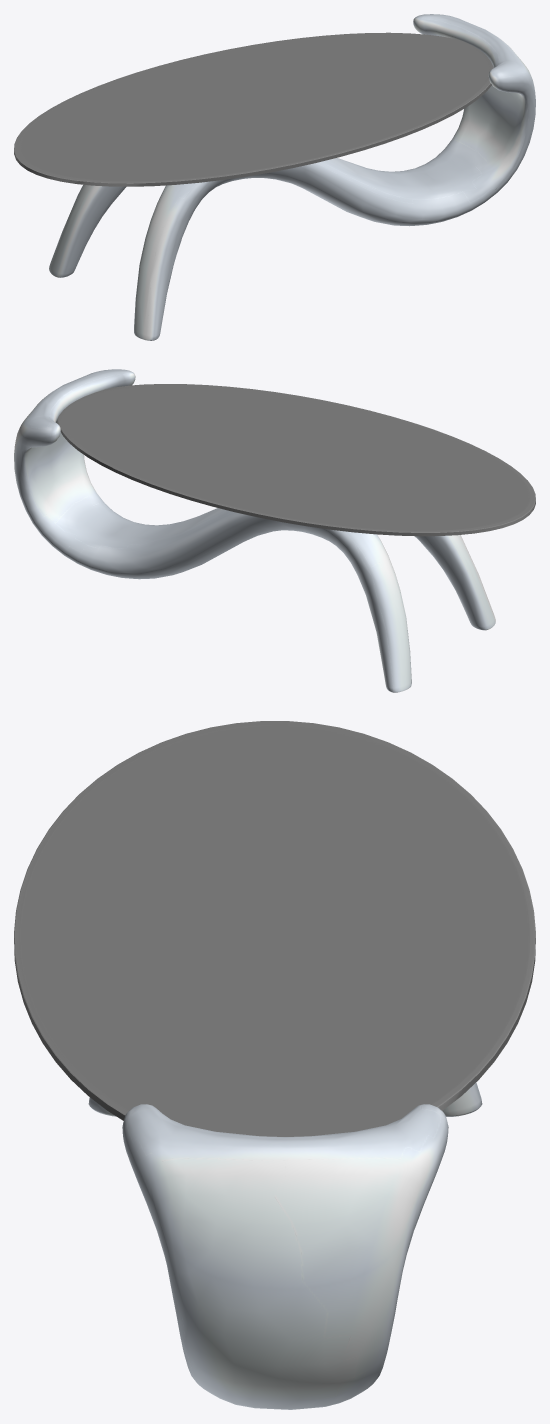
Rendered from raw_model.obj.
The picture shows the model from 3 angles, top to bottom: view 1: azimuth 30°, elevation 25°; view 2: azimuth 150°, elevation 25°; view 3: azimuth 270°, elevation 25°; orthographic projection. The views are drawn at different scales.
Parts seen in each view (by area): view 1: glass_001, solid_002; view 2: glass_001, solid_002; view 3: glass_001, solid_002.
Boxes of the visible parts, <box> form: glass_001: <box>14,32,493,186</box>; solid_002: <box>49,14,535,340</box>; glass_001: <box>57,384,535,536</box>; solid_002: <box>14,369,495,692</box>; glass_001: <box>14,721,535,1136</box>; solid_002: <box>88,1082,482,1409</box>.
Bounding box in the file's own units: 1.24 × 0.4187 × 0.5896.
1 material, 1 textured.
